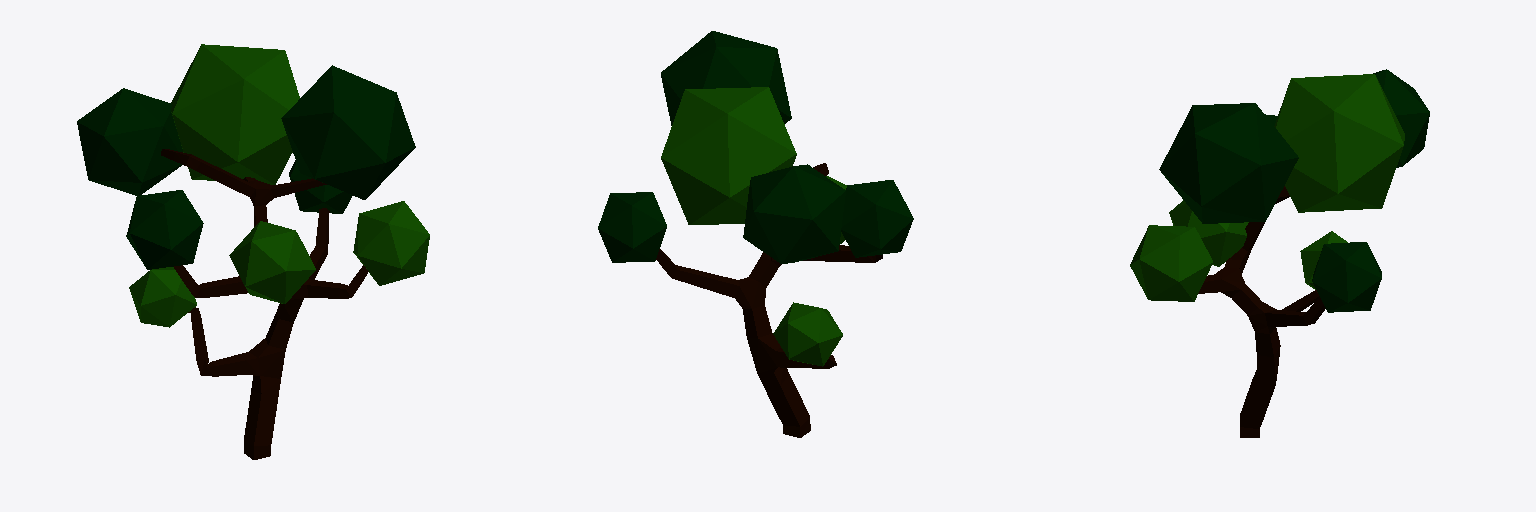
Rendered from tree_leaves.obj.
3 renders of one model, left to right at view 1: azimuth 30°, elevation 25°; view 2: azimuth 150°, elevation 25°; view 3: azimuth 270°, elevation 25°, orthographic.
Visible parts, largest first — view 1: Icosphere.003, Icosphere.006, Cylinder, Icosphere.005, Icosphere.002, Icosphere.007, Icosphere.001, Icosphere.004, Icosphere; view 2: Icosphere.003, Icosphere.005, Cylinder, Icosphere.006, Icosphere.001, Icosphere, Icosphere.004; view 3: Icosphere.003, Icosphere.006, Cylinder, Icosphere.002, Icosphere, Icosphere.005, Icosphere.007, Icosphere.004.
Boxes of the visible parts, box(x1,y1,x2,y2) form: Icosphere.003: box(171, 44, 299, 184); Icosphere.006: box(281, 65, 415, 199); Cylinder: box(161, 149, 368, 459); Icosphere.005: box(77, 88, 182, 195); Icosphere.002: box(353, 201, 429, 285); Icosphere.007: box(229, 221, 315, 303); Icosphere.001: box(126, 190, 203, 269); Icosphere.004: box(129, 267, 196, 327); Icosphere: box(289, 160, 352, 213); Icosphere.003: box(661, 87, 796, 224); Icosphere.005: box(743, 164, 845, 263); Cylinder: box(656, 163, 882, 437); Icosphere.006: box(661, 31, 791, 125); Icosphere.001: box(841, 180, 913, 257); Icosphere: box(598, 192, 666, 262); Icosphere.004: box(773, 302, 842, 366); Icosphere.003: box(1274, 74, 1404, 212); Icosphere.006: box(1159, 103, 1298, 223); Cylinder: box(1198, 186, 1325, 437); Icosphere.002: box(1130, 225, 1212, 301); Icosphere: box(1312, 242, 1381, 312); Icosphere.005: box(1373, 69, 1429, 167); Icosphere.007: box(1169, 200, 1248, 266); Icosphere.004: box(1300, 231, 1347, 289).
Size of the model in its own units: 14.55 by 18.83 by 13.92.